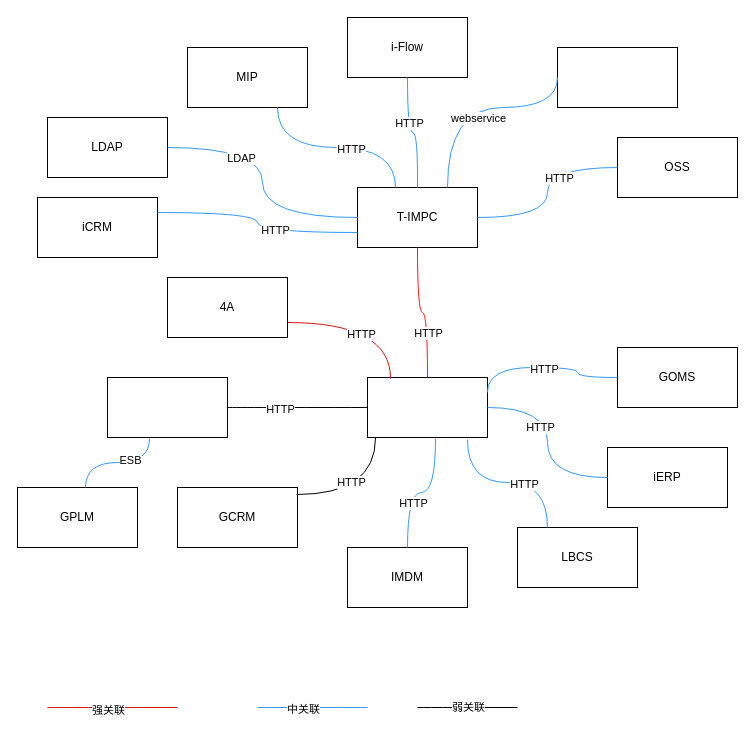
This 755x734 diagram has some shape labels left out. Each missing label, with the centre of its shape:
"i-PTSP" goes at point (167, 407).
"iService" goes at point (427, 407).
"美信" goes at point (617, 77).
